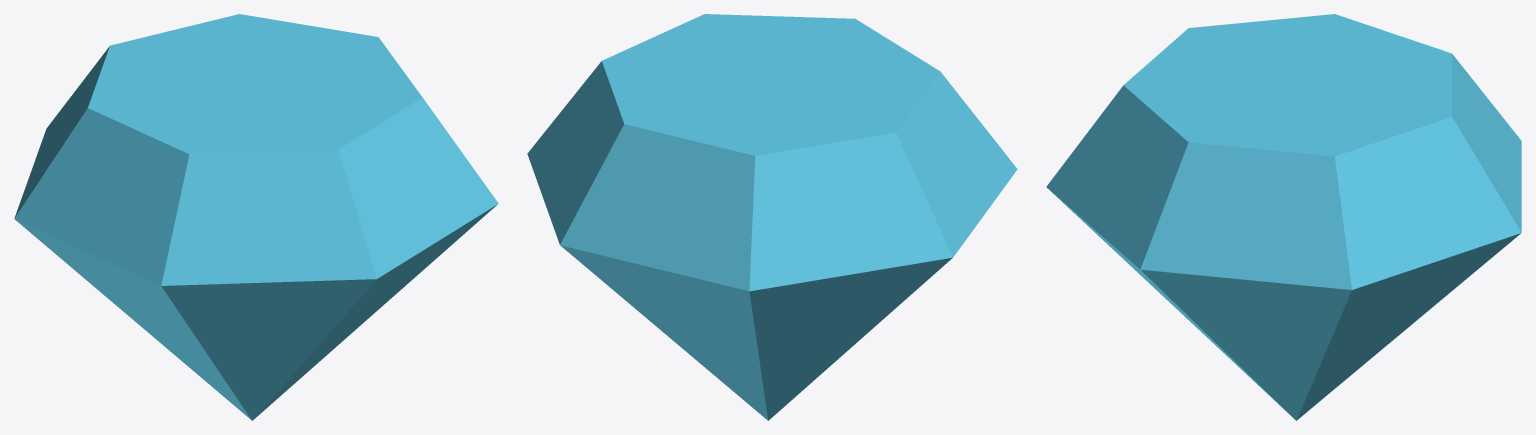
Rendered from Diamond.fbx.
The picture shows the model from 3 angles, left to right: view 1: azimuth 30°, elevation 25°; view 2: azimuth 150°, elevation 25°; view 3: azimuth 270°, elevation 25°; orthographic projection.
Parts seen in each view (by area): view 1: Cone; view 2: Cone; view 3: Cone.
Part boxes in pixels (box(x1,y1,x2,y2)): Cone: box(14, 14, 498, 420); Cone: box(527, 14, 1017, 420); Cone: box(1046, 14, 1521, 420).
Size of the model in its own units: 1.95 by 1.48 by 1.9.
